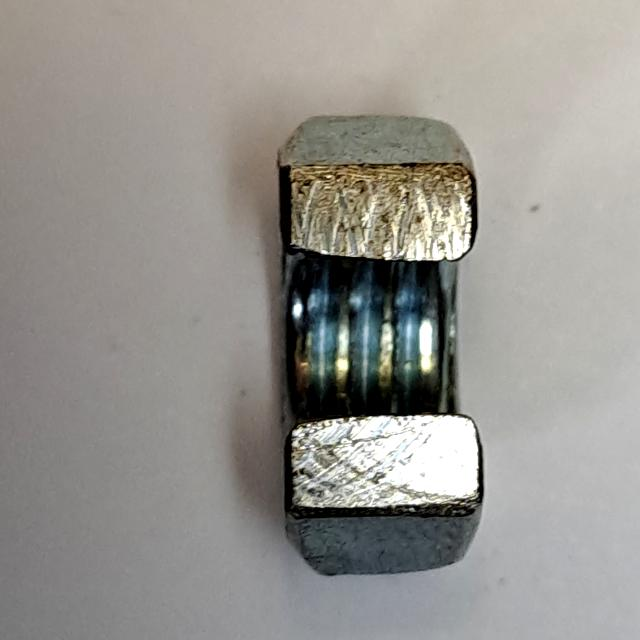Side-Fracture: (254, 106, 499, 595)
